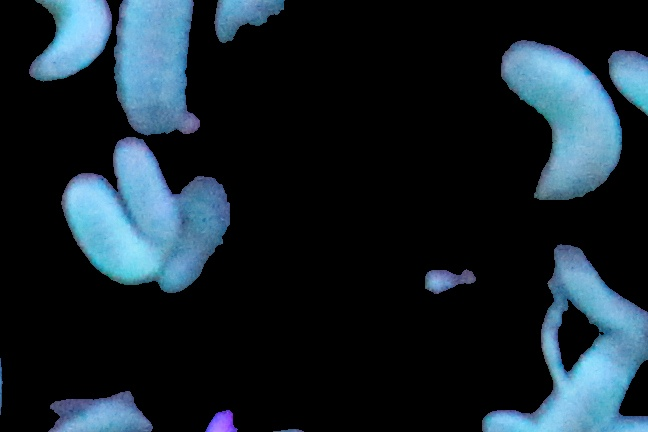larvae: (499, 40, 624, 213), (62, 176, 174, 276), (537, 323, 629, 432), (120, 1, 193, 136), (162, 161, 230, 290), (556, 244, 648, 337), (109, 140, 184, 251), (14, 1, 107, 90), (176, 1, 293, 53)
